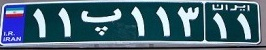1: (55, 5, 76, 41), (30, 6, 51, 41), (128, 4, 148, 39), (153, 4, 173, 38), (234, 10, 254, 42), (211, 10, 230, 41)
3: (174, 4, 201, 39)
پ: (79, 6, 125, 39)
